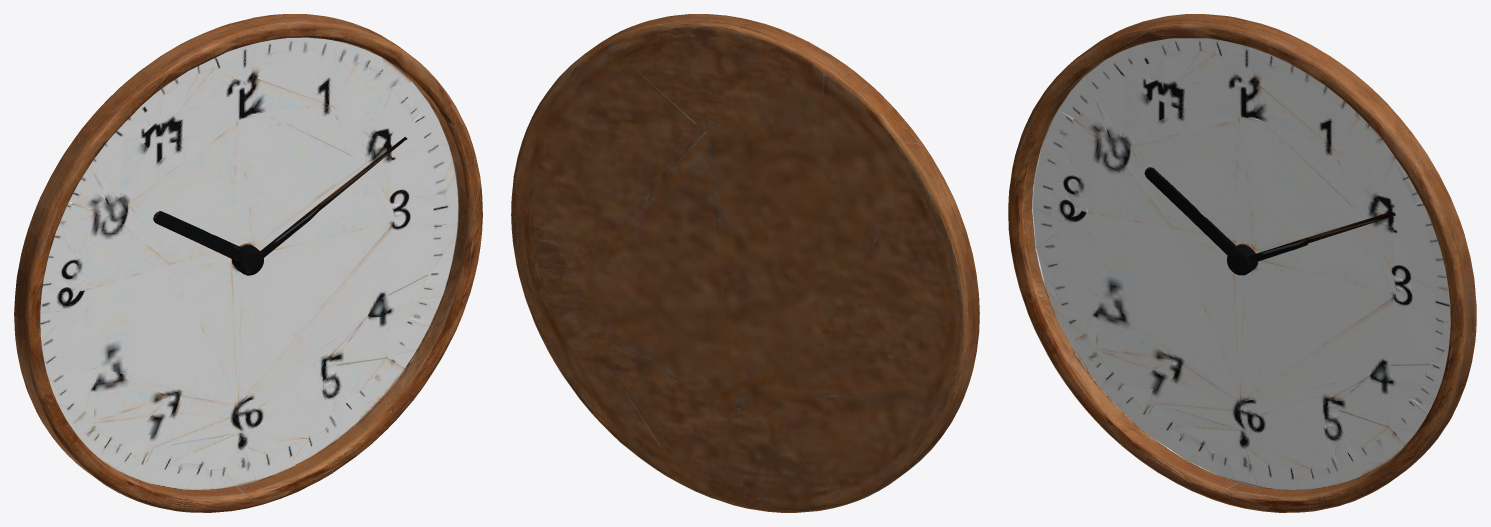
The model's file is w4clock.glb.
The picture shows the model from 3 angles, left to right: view 1: azimuth 30°, elevation 25°; view 2: azimuth 150°, elevation 25°; view 3: azimuth 330°, elevation 25°; orthographic projection.
Visible parts, largest first — view 1: output_unwrapped; view 2: output_unwrapped; view 3: output_unwrapped.
Boxes of the visible parts, bbox=[...] form: output_unwrapped: bbox=[14, 14, 482, 512]; output_unwrapped: bbox=[511, 14, 979, 512]; output_unwrapped: bbox=[1008, 14, 1476, 512].
Size of the model in its own units: 0.3 by 0.2999 by 0.0175.
1 material, 1 textured.
